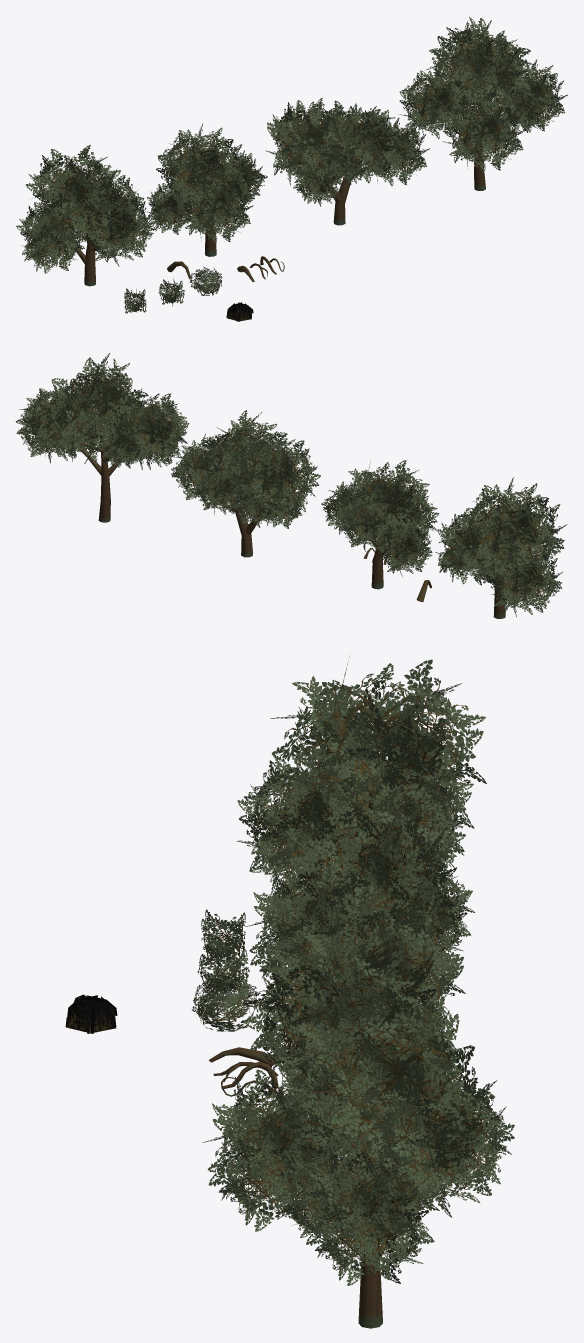
File: trees_TESTING.fbx
3 renders of one model, top to bottom at view 1: azimuth 30°, elevation 25°; view 2: azimuth 150°, elevation 25°; view 3: azimuth 270°, elevation 25°, orthographic. The views are drawn at different scales.
Visible parts, largest first — view 1: tree_4.001, tree_1.001, tree_3.001, tree_2.001, bushe, tree_1, tree_3, Leaf_base, Leaf_base.001, bushe.003; view 2: tree_4.001, tree_1.001, tree_3.001, tree_2.001, tree_4, tree_3, tree_2; view 3: tree_4.001, tree_1.001, tree_2.001, tree_3.001, bushe, bushe.003, Leaf_base, Leaf_base.001, tree_4.
Boxes of the visible parts, left/top/right/bottom form: tree_4.001: left=399, top=16, right=567, bottom=171; tree_1.001: left=16, top=145, right=155, bottom=273; tree_3.001: left=266, top=97, right=429, bottom=206; tree_2.001: left=146, top=123, right=267, bottom=242; bushe: left=189, top=266, right=222, bottom=295; tree_1: left=66, top=192, right=113, bottom=286; tree_3: left=310, top=149, right=373, bottom=225; Leaf_base: left=158, top=278, right=184, bottom=306; Leaf_base.001: left=124, top=288, right=146, bottom=313; bushe.003: left=226, top=302, right=253, bottom=321; tree_4.001: left=15, top=353, right=189, bottom=469; tree_1.001: left=435, top=477, right=566, bottom=616; tree_3.001: left=171, top=410, right=320, bottom=528; tree_2.001: left=321, top=460, right=439, bottom=576; tree_4: left=76, top=404, right=122, bottom=522; tree_3: left=209, top=461, right=269, bottom=557; tree_2: left=371, top=499, right=411, bottom=589; tree_4.001: left=203, top=988, right=514, bottom=1285; tree_1.001: left=236, top=656, right=486, bottom=894; tree_2.001: left=245, top=789, right=474, bottom=1001; tree_3.001: left=243, top=899, right=465, bottom=1161; bushe: left=191, top=973, right=258, bottom=1031; bushe.003: left=65, top=994, right=117, bottom=1033; Leaf_base: left=197, top=943, right=249, bottom=997; Leaf_base.001: left=201, top=909, right=245, bottom=961; tree_4: left=358, top=1102, right=416, bottom=1328.
Bounding box in the file's own units: 2362 × 725 × 860.
